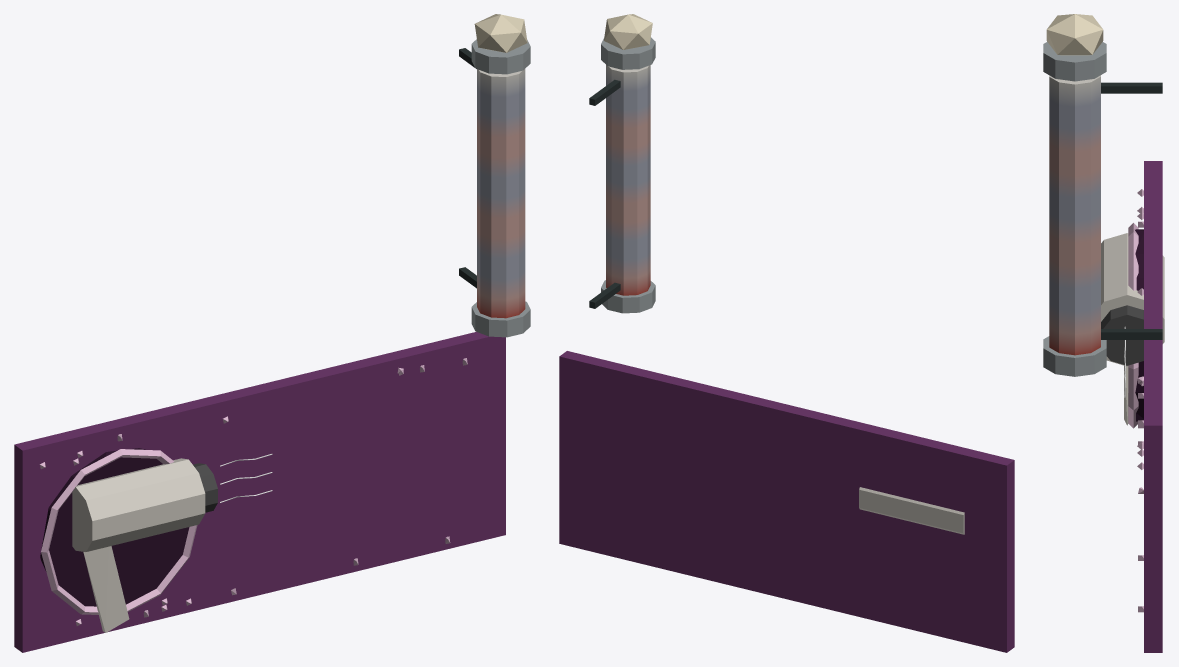
The model's file is bang_salon_toc_my_linh_32.glb.
The picture shows the model from 3 angles, left to right: view 1: azimuth 30°, elevation 25°; view 2: azimuth 150°, elevation 25°; view 3: azimuth 270°, elevation 25°; orthographic projection. The views are drawn at different scales.
Visible parts, largest first — view 1: bang_salon_toc_my_linh_32; view 2: bang_salon_toc_my_linh_32; view 3: bang_salon_toc_my_linh_32.
Boxes of the visible parts, left/top/right/bottom form: bang_salon_toc_my_linh_32: left=14, top=14, right=530, bottom=652; bang_salon_toc_my_linh_32: left=559, top=14, right=1014, bottom=652; bang_salon_toc_my_linh_32: left=1043, top=14, right=1164, bottom=652.
Size of the model in its own units: 3 by 3.27 by 0.5819.
